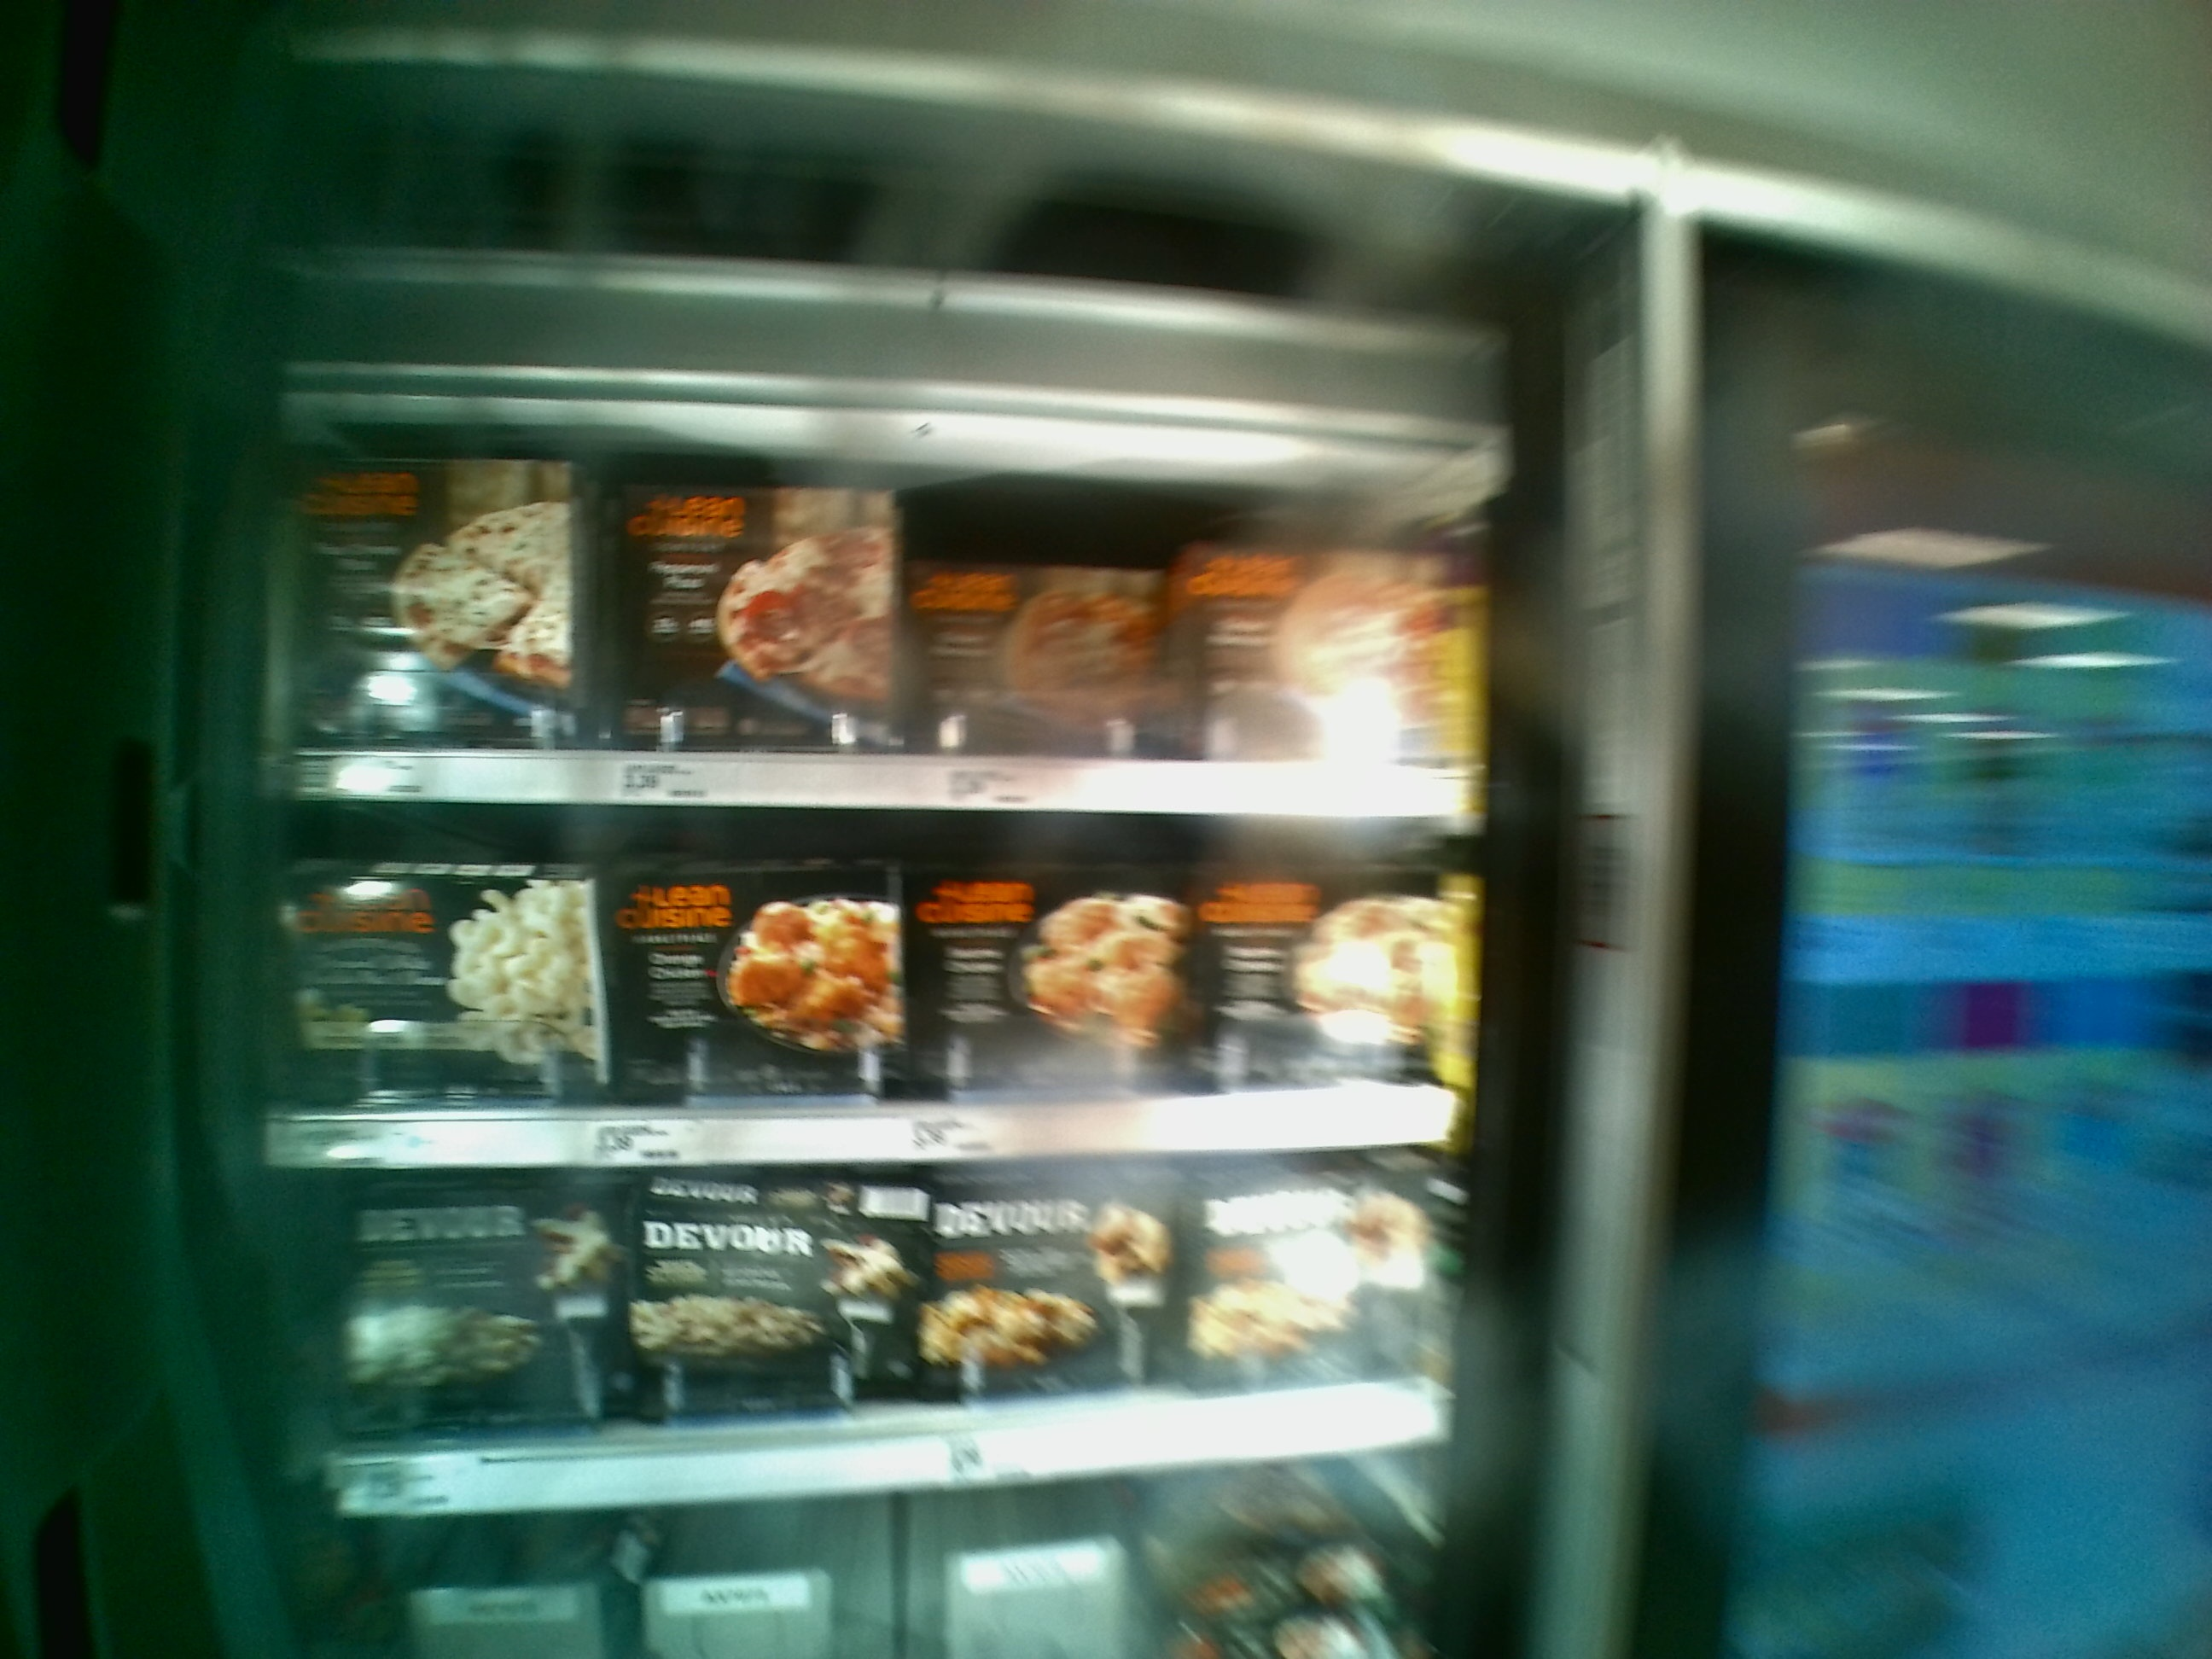Shelf: (258, 380, 1480, 819), (270, 796, 1468, 1173), (270, 1140, 1465, 1513)
